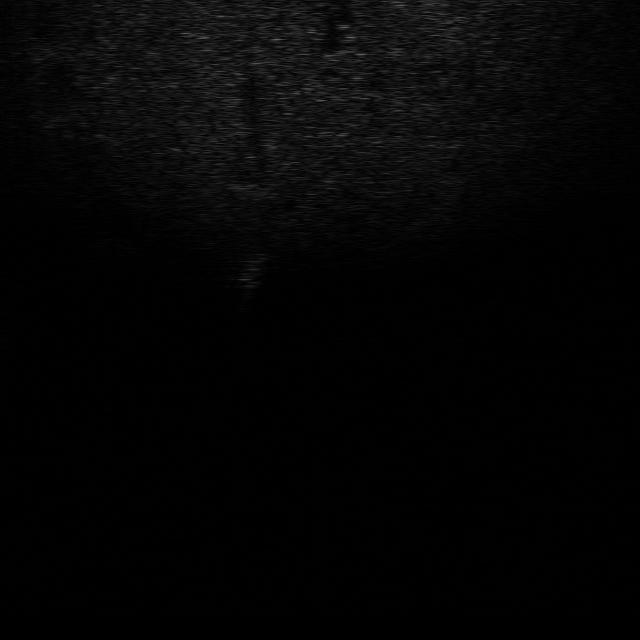human body: (231, 248, 270, 316)
